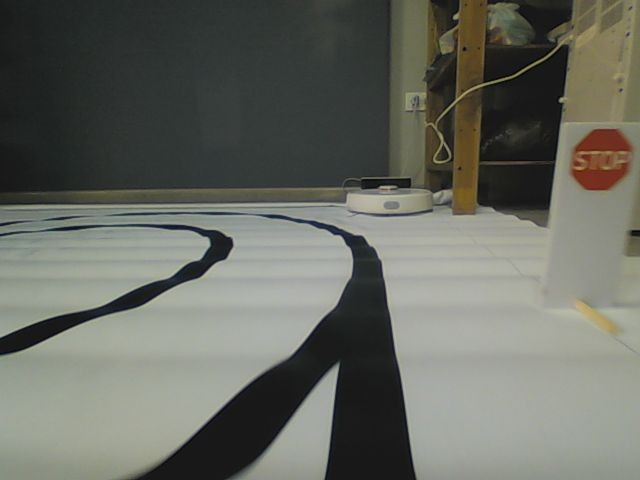Stop: (570, 126, 635, 194)
